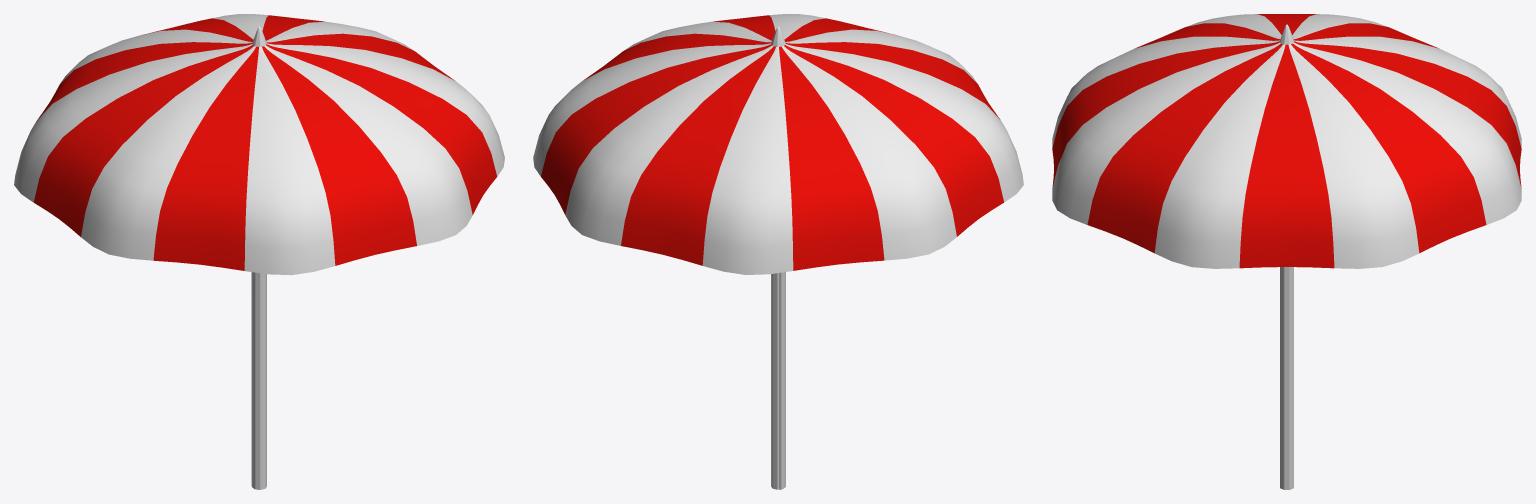
File: Parasol.fbx
3 renders of one model, left to right at view 1: azimuth 30°, elevation 25°; view 2: azimuth 150°, elevation 25°; view 3: azimuth 270°, elevation 25°, orthographic.
Visible parts, largest first — view 1: Parasol; view 2: Parasol; view 3: Parasol.
Boxes of the visible parts, <box> form: Parasol: <box>14,14,504,489</box>; Parasol: <box>533,14,1023,489</box>; Parasol: <box>1052,14,1521,489</box>.
Size of the model in its own units: 643 by 700 by 643.
